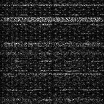lte: (1, 17, 104, 22), (1, 42, 104, 47), (1, 72, 104, 75), (1, 3, 104, 6)
